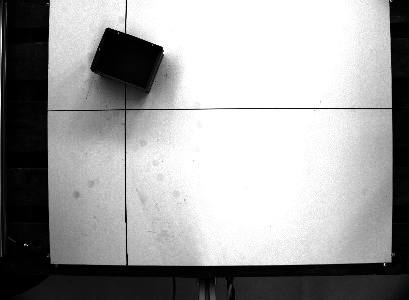klts: (88, 25, 167, 96)
